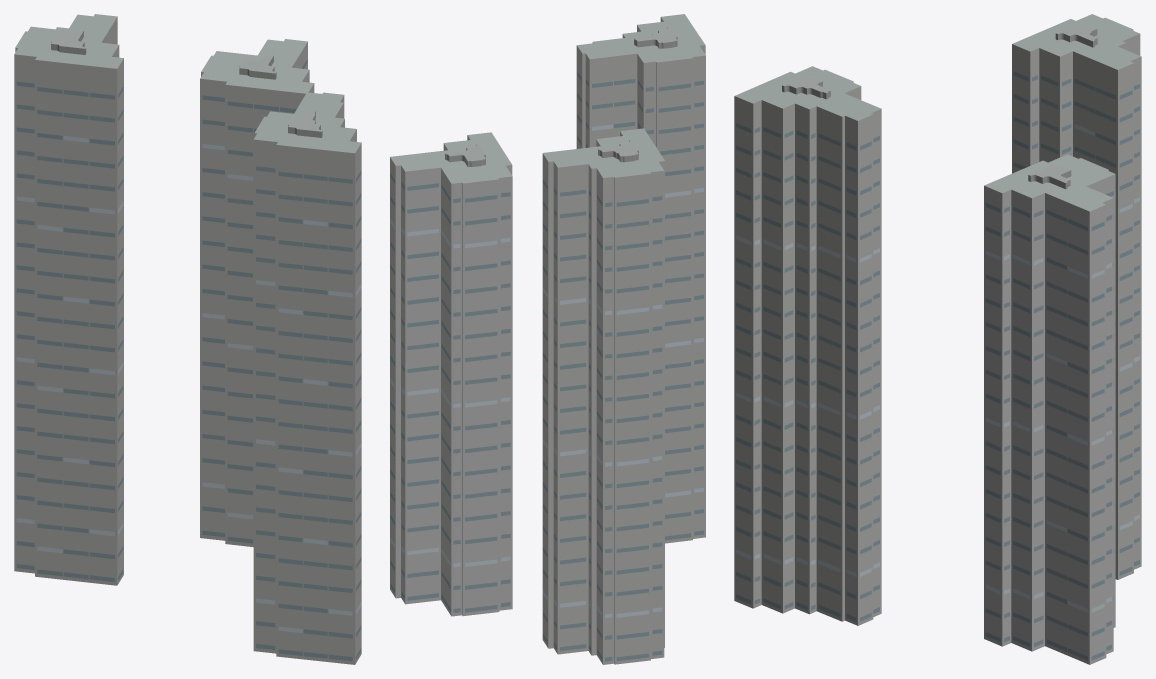
The model's file is apt-a13509009.glb.
3 views of the same model, side by side, from view 1: azimuth 30°, elevation 25°; view 2: azimuth 150°, elevation 25°; view 3: azimuth 270°, elevation 25° (orthographic). The views are drawn at different scales.
Parts seen in each view (by area): view 1: apt-a13509009; view 2: apt-a13509009; view 3: apt-a13509009.
Part boxes in pixels (x1,y1,x2,y2): apt-a13509009: (14, 14, 361, 664); apt-a13509009: (390, 14, 705, 664); apt-a13509009: (734, 14, 1141, 664).
Bounding box in the file's own units: 117 × 200 × 143.
